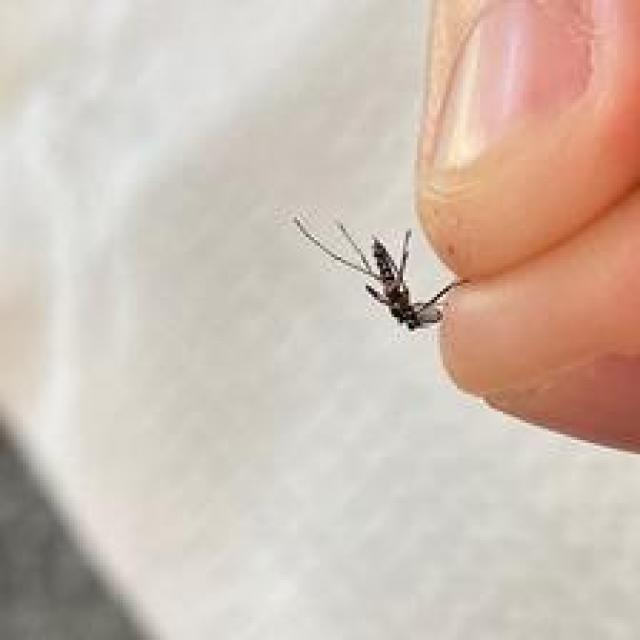Aedes albopictus: (290, 212, 467, 334)
